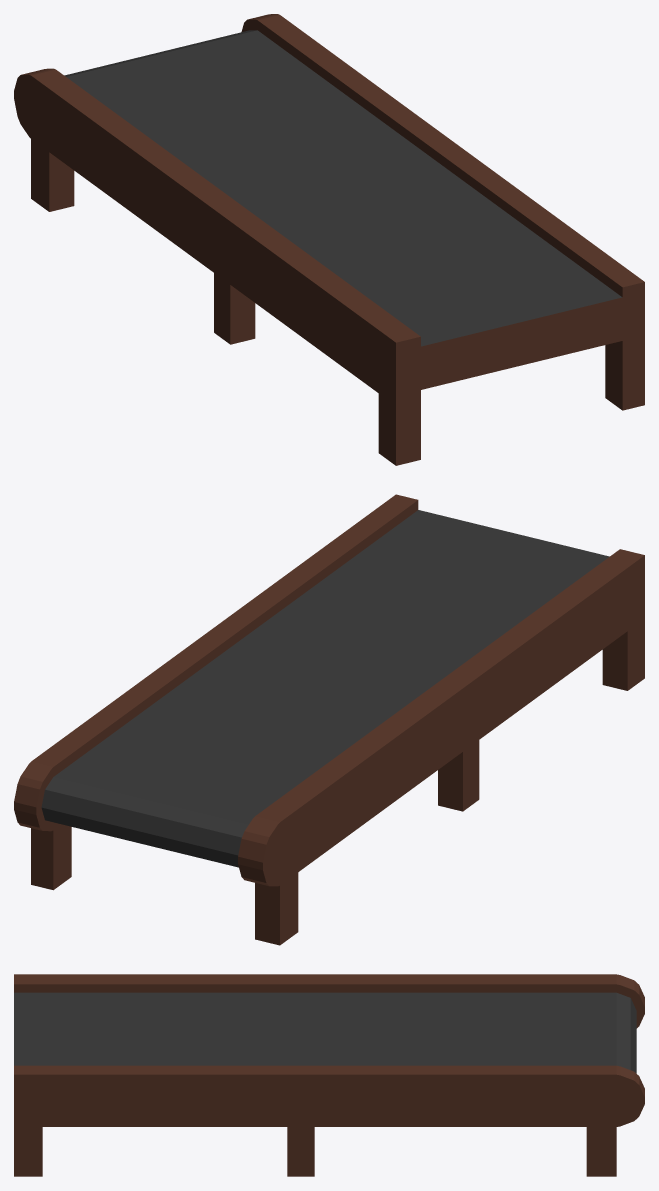
The model's file is laufband_stufe1.fbx.
The picture shows the model from 3 angles, top to bottom: view 1: azimuth 30°, elevation 25°; view 2: azimuth 150°, elevation 25°; view 3: azimuth 270°, elevation 25°; orthographic projection. The views are drawn at different scales.
Visible parts, largest first — view 1: laufband_stufe1; view 2: laufband_stufe1; view 3: laufband_stufe1.
Part boxes in pixels (x1,y1,x2,y2): laufband_stufe1: [14, 14, 644, 465]; laufband_stufe1: [14, 494, 644, 945]; laufband_stufe1: [14, 974, 644, 1176].
Size of the model in its own units: 131 by 61.76 by 347.
